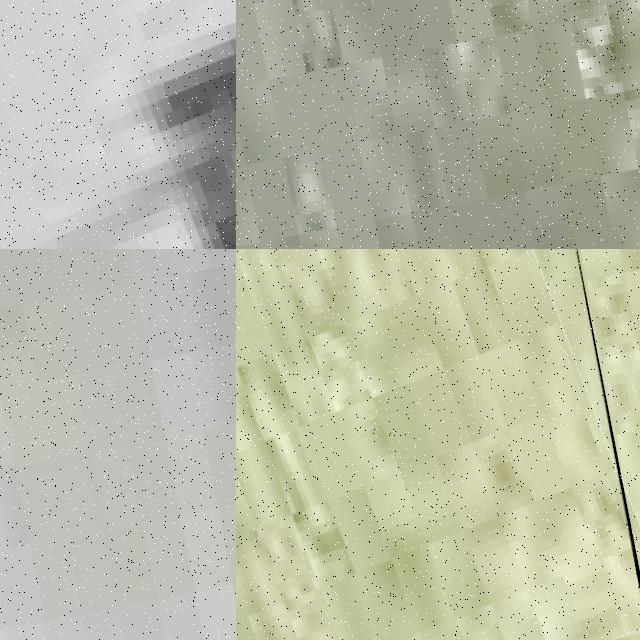drone: (236, 249, 640, 640), (0, 0, 236, 249)
